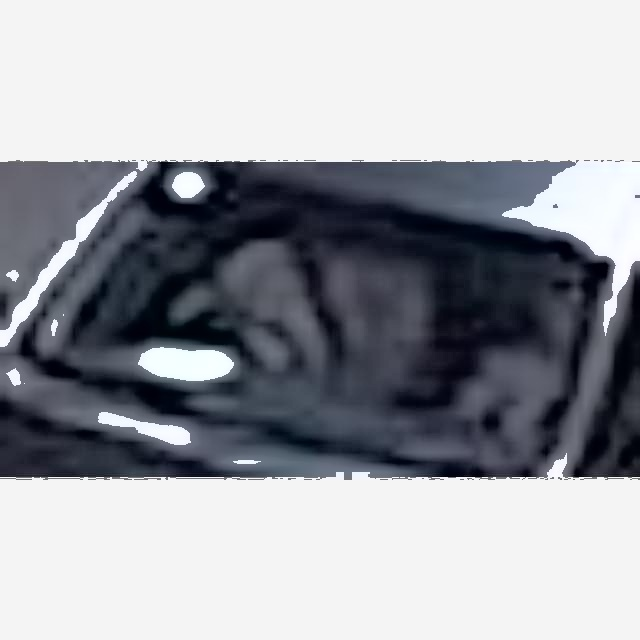pakai: (158, 211, 443, 418)
